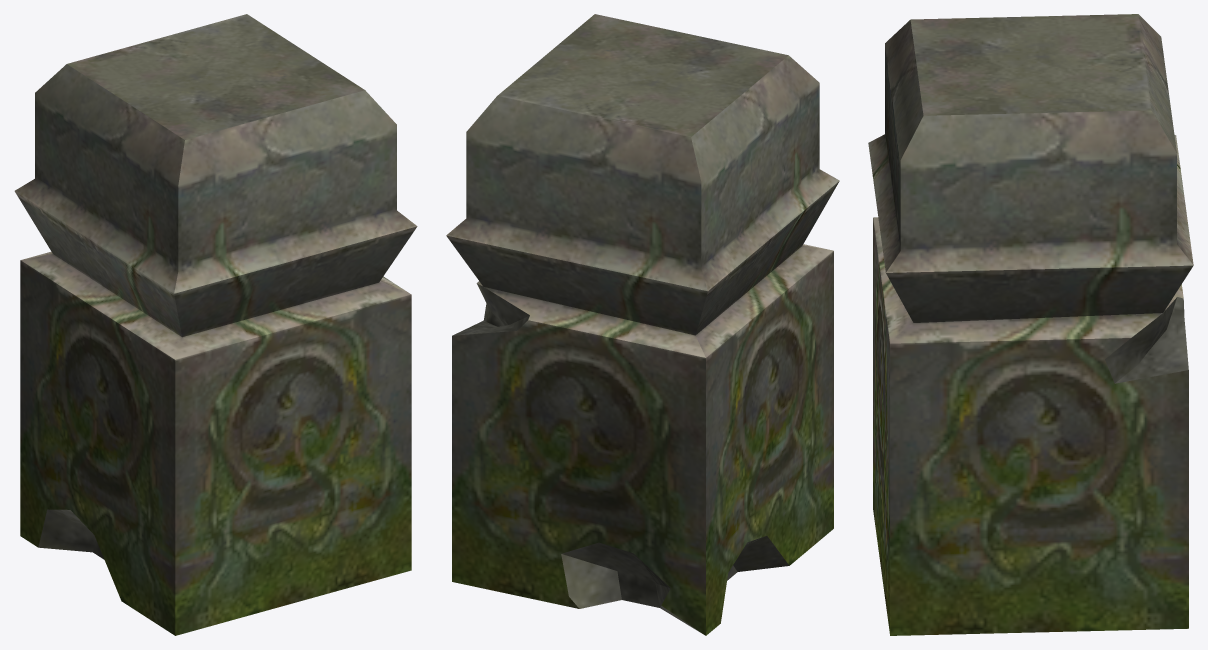
File: THL2_8.fbx
The picture shows the model from 3 angles, left to right: view 1: azimuth 30°, elevation 25°; view 2: azimuth 150°, elevation 25°; view 3: azimuth 270°, elevation 25°; orthographic projection. The views are drawn at different scales.
Visible parts, largest first — view 1: polySurface36; view 2: polySurface36; view 3: polySurface36.
Part boxes in pixels (bbox=[...]): polySurface36: bbox=[14, 14, 417, 635]; polySurface36: bbox=[446, 14, 839, 635]; polySurface36: bbox=[868, 14, 1193, 635].
Bounding box in the file's own units: 1.94 × 3.32 × 1.94.
